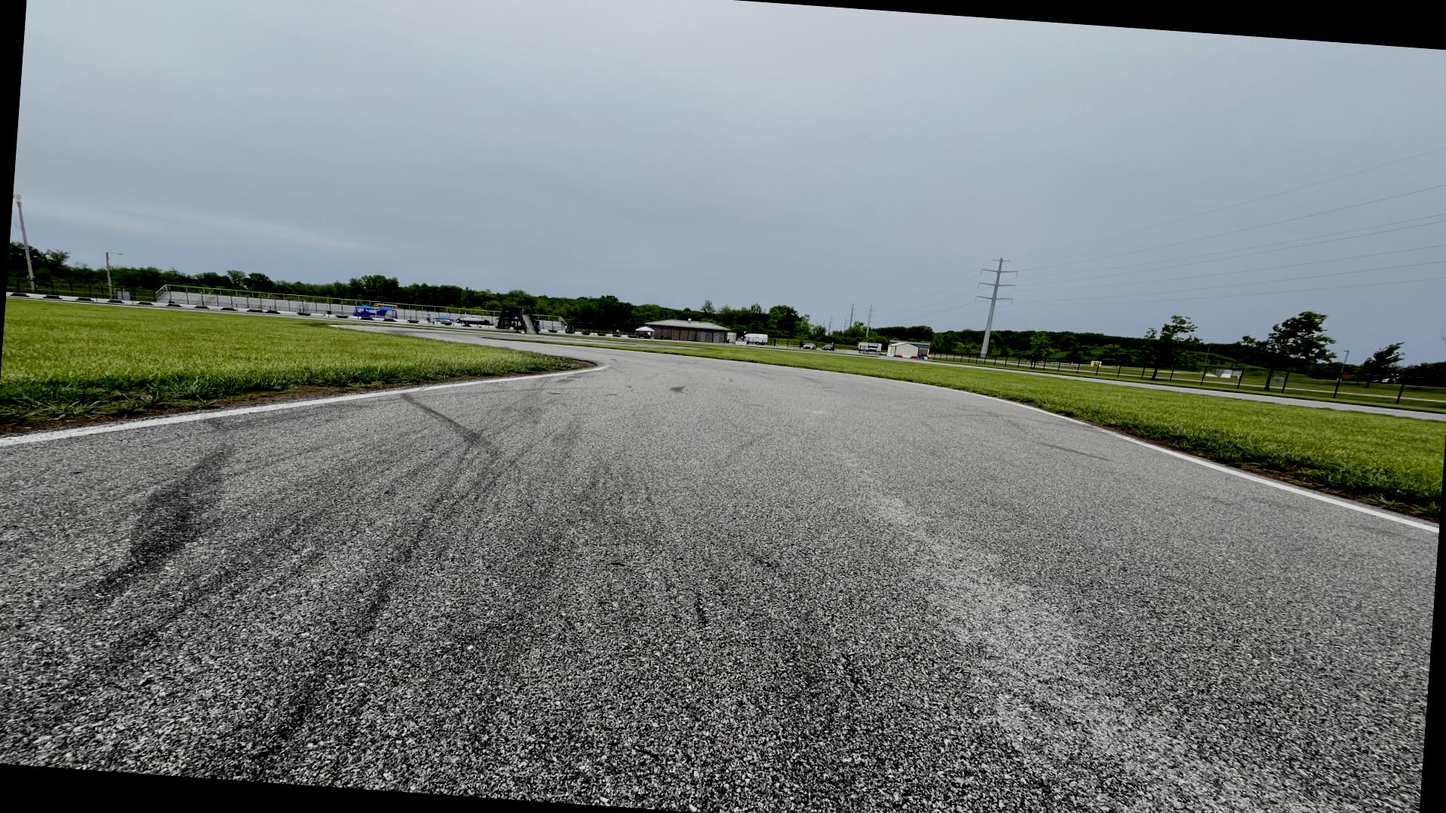white-line: (477, 336, 1438, 535), (0, 343, 609, 452)
